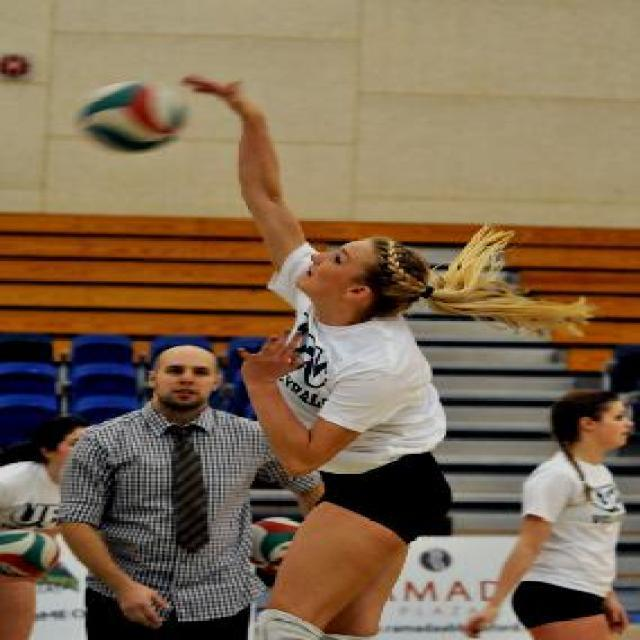volleyball: (77, 76, 189, 155)
